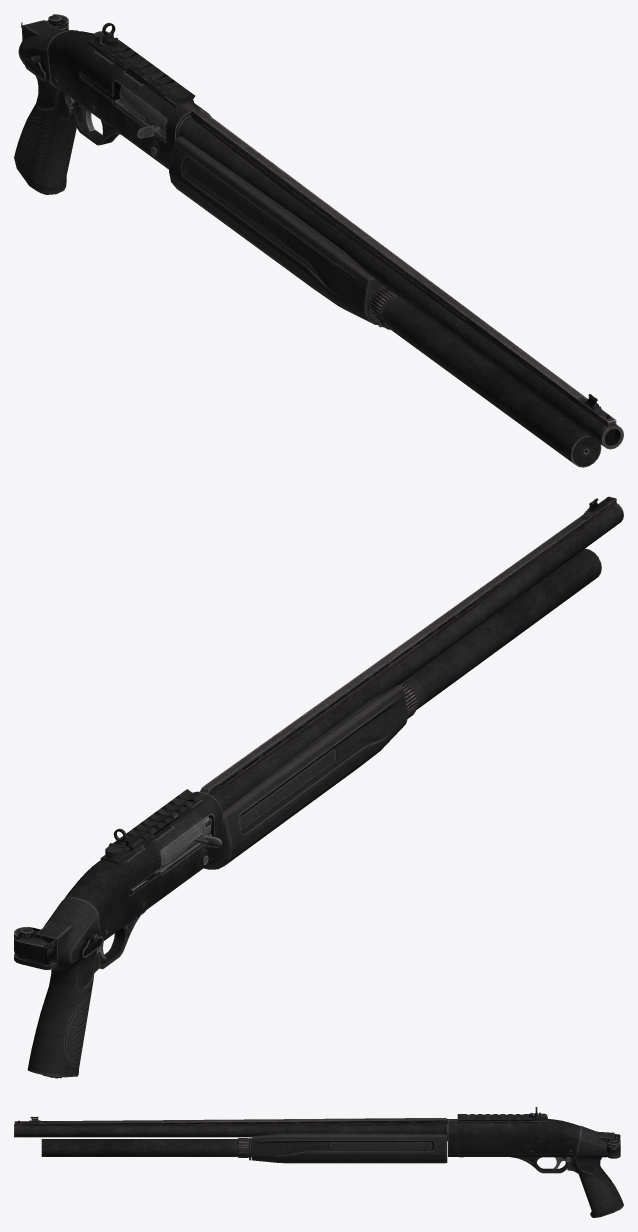
Rendered from shotgunEdit.fbx.
The picture shows the model from 3 angles, top to bottom: view 1: azimuth 30°, elevation 25°; view 2: azimuth 150°, elevation 25°; view 3: azimuth 270°, elevation 25°; orthographic projection. The views are drawn at different scales.
Visible parts, largest first — view 1: Body, Fore, Sight; view 2: Body, Fore, Sight; view 3: Body, Fore, Sight.
Part boxes in pixels (bbox=[...]): Body: bbox=[14, 14, 623, 467]; Fore: bbox=[169, 136, 384, 324]; Sight: bbox=[88, 22, 601, 411]; Body: bbox=[14, 496, 623, 1078]; Fore: bbox=[204, 685, 407, 869]; Sight: bbox=[100, 498, 602, 865]; Body: bbox=[14, 1118, 623, 1217]; Fore: bbox=[251, 1133, 447, 1163]; Sight: bbox=[28, 1107, 547, 1123].
Bounding box in the file's own units: 1503 × 4293 × 21882.
